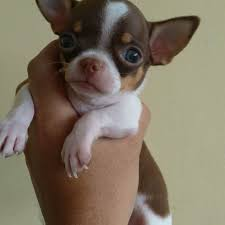Chihuahua: (24, 1, 197, 116)
